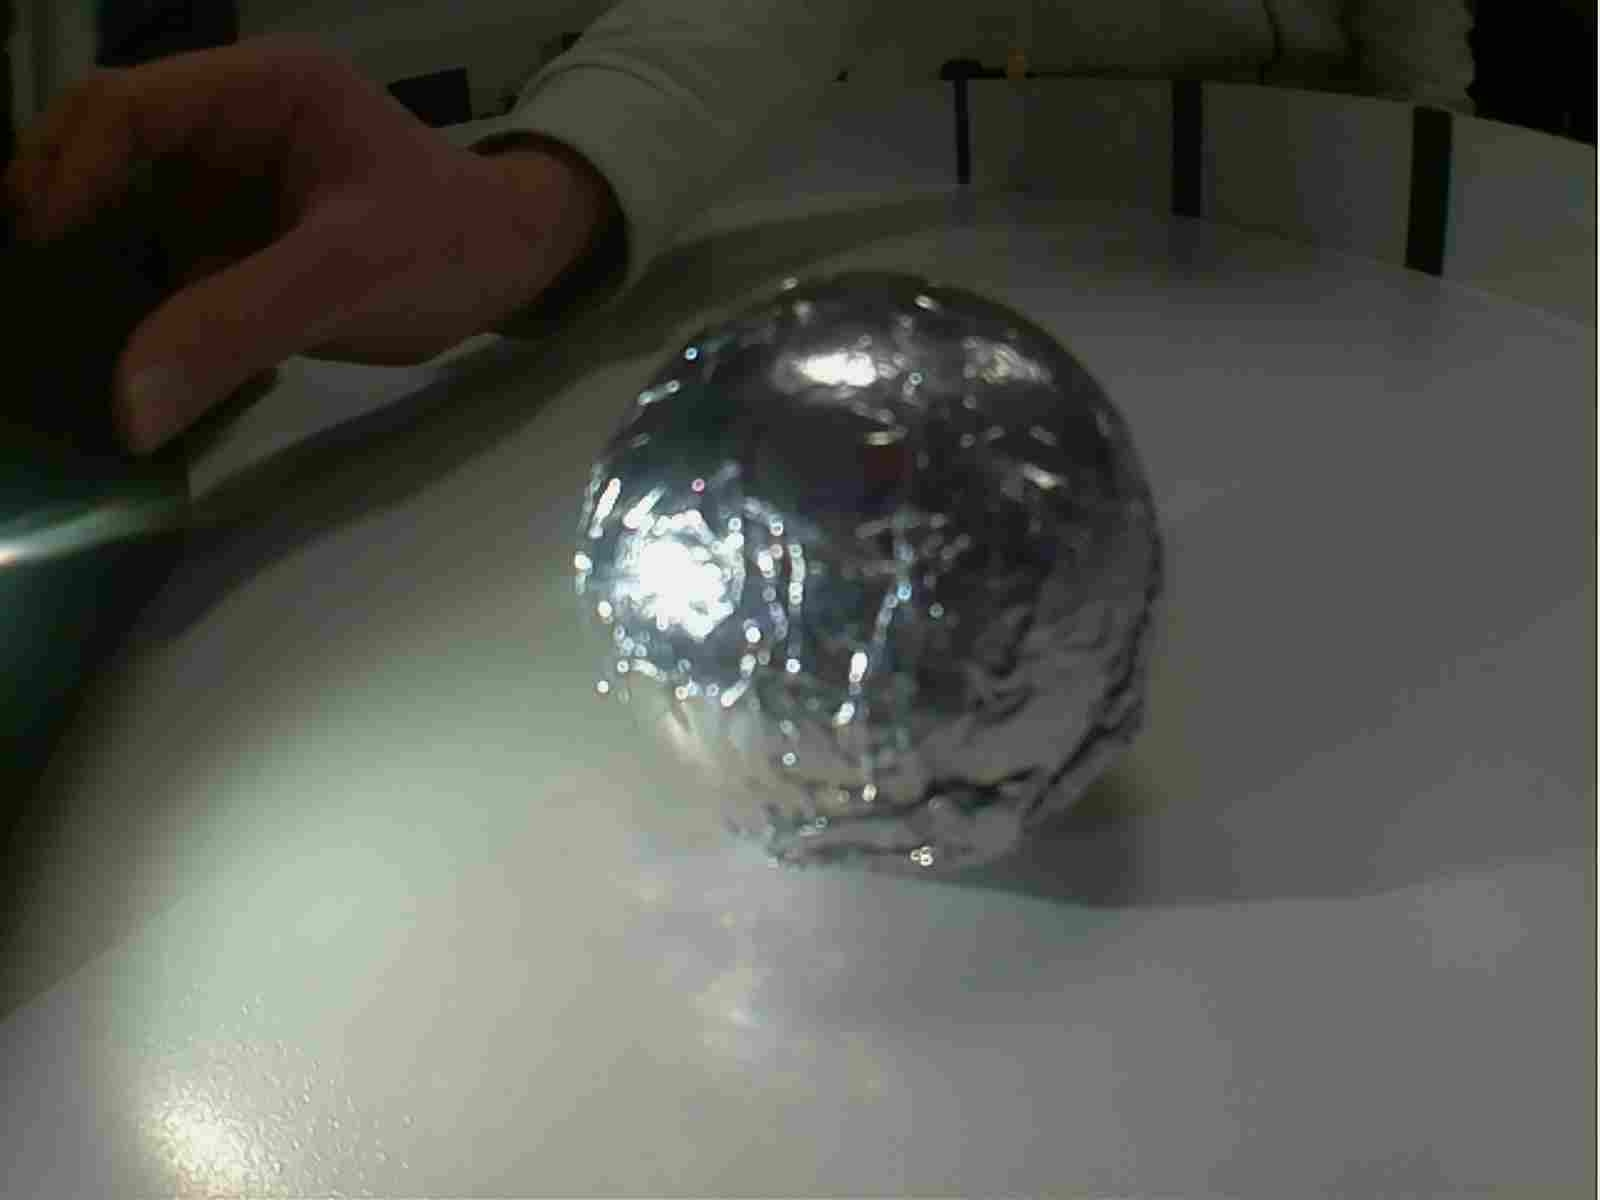bianca: (580, 255, 1174, 895)
